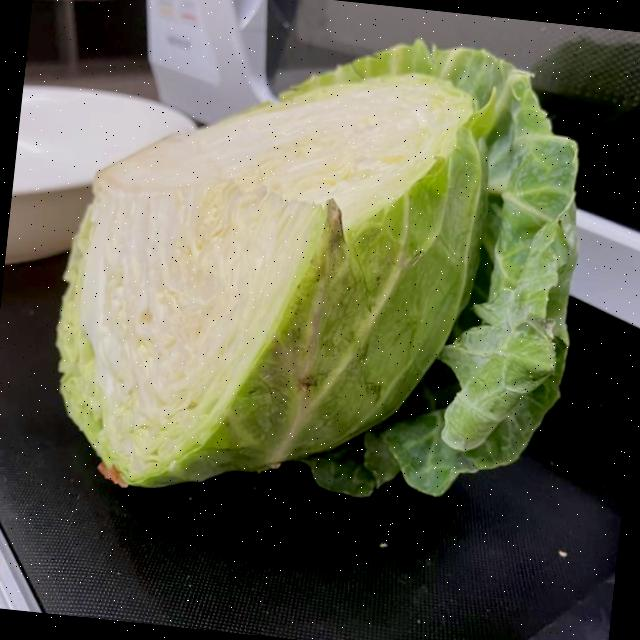cabbage: (36, 0, 603, 538)
